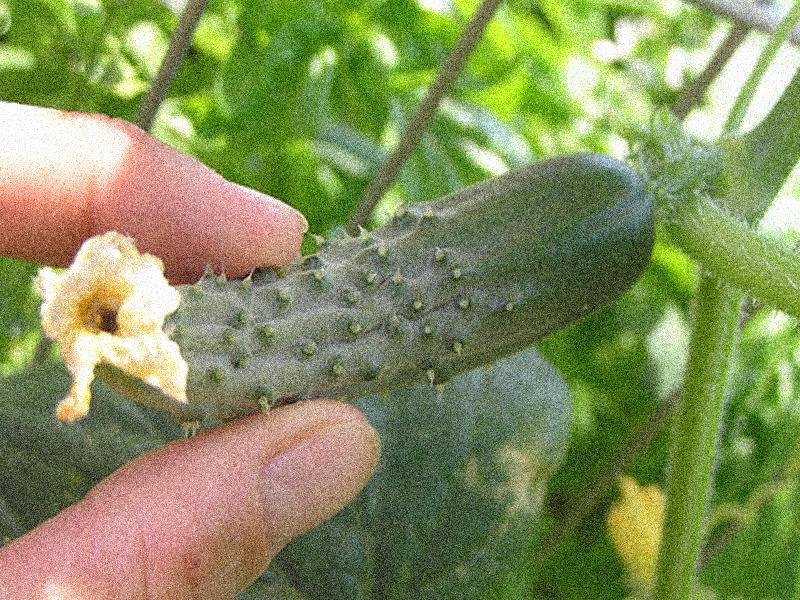Cucumber: (38, 155, 657, 422)
